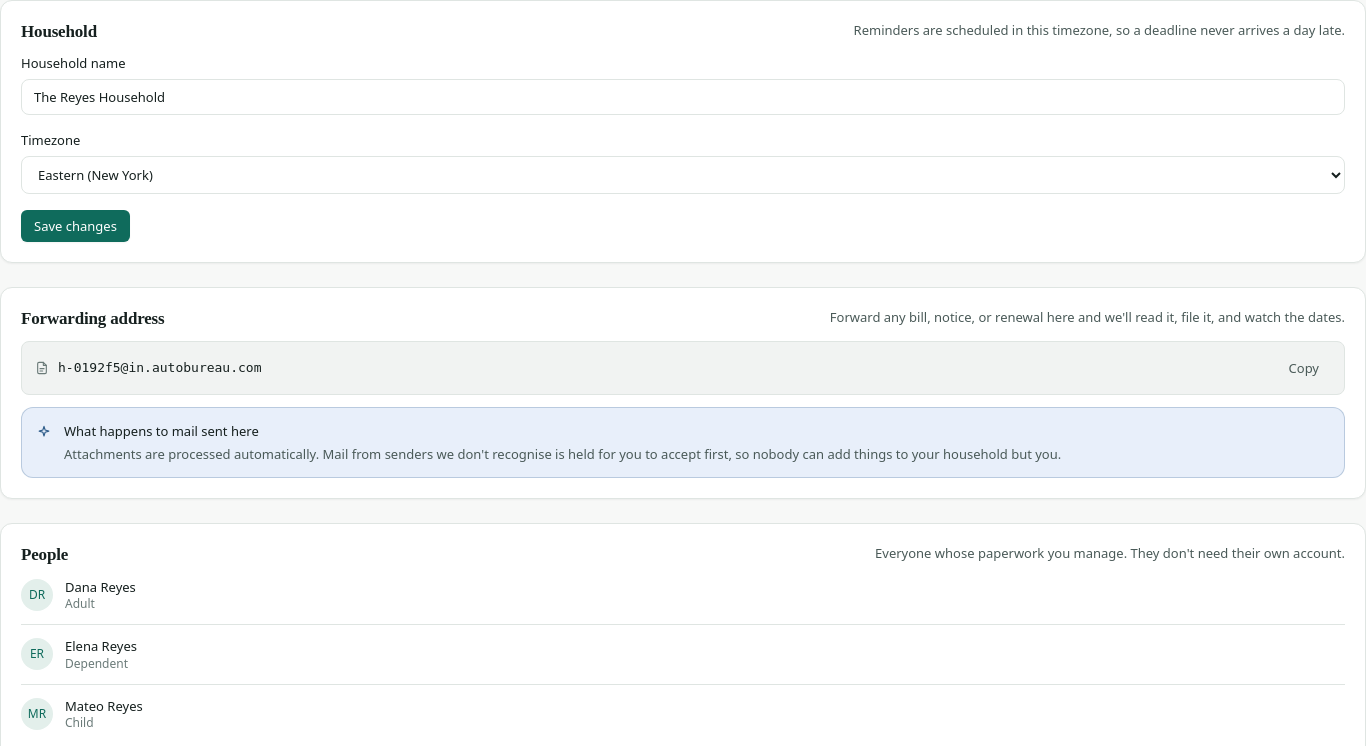
Test: unrelated household settings remain intact › still renders the household name/timezone fields and the working save action
The image size is (1366, 746).
Expected: the field labelled "Household name" is shown, [21, 79, 1345, 115]
Expected: the dropdown labelled "Timezone" is shown, [21, 156, 1345, 194]
Step 1. Click the button "Save changes" → click(75, 226), box [21, 210, 130, 242]
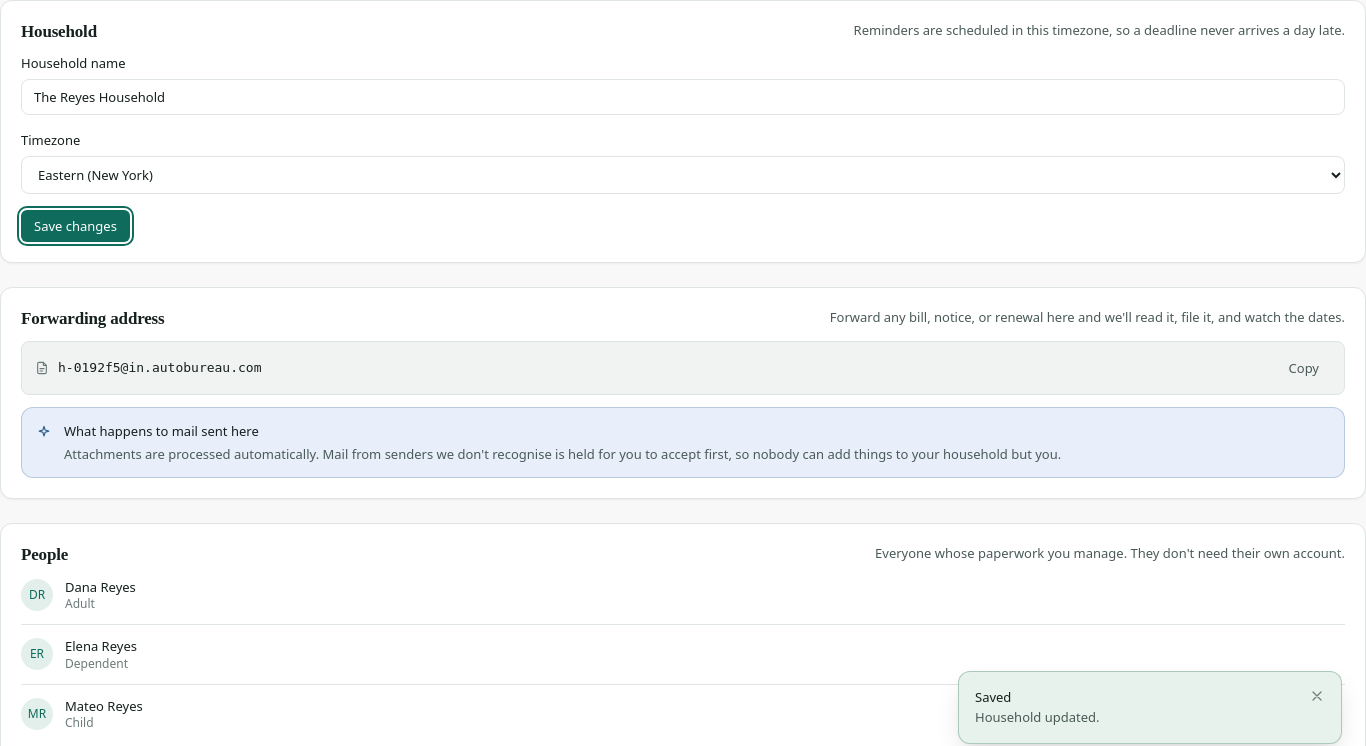
Expected: the text "Saved" is shown, [975, 688, 1011, 706]
